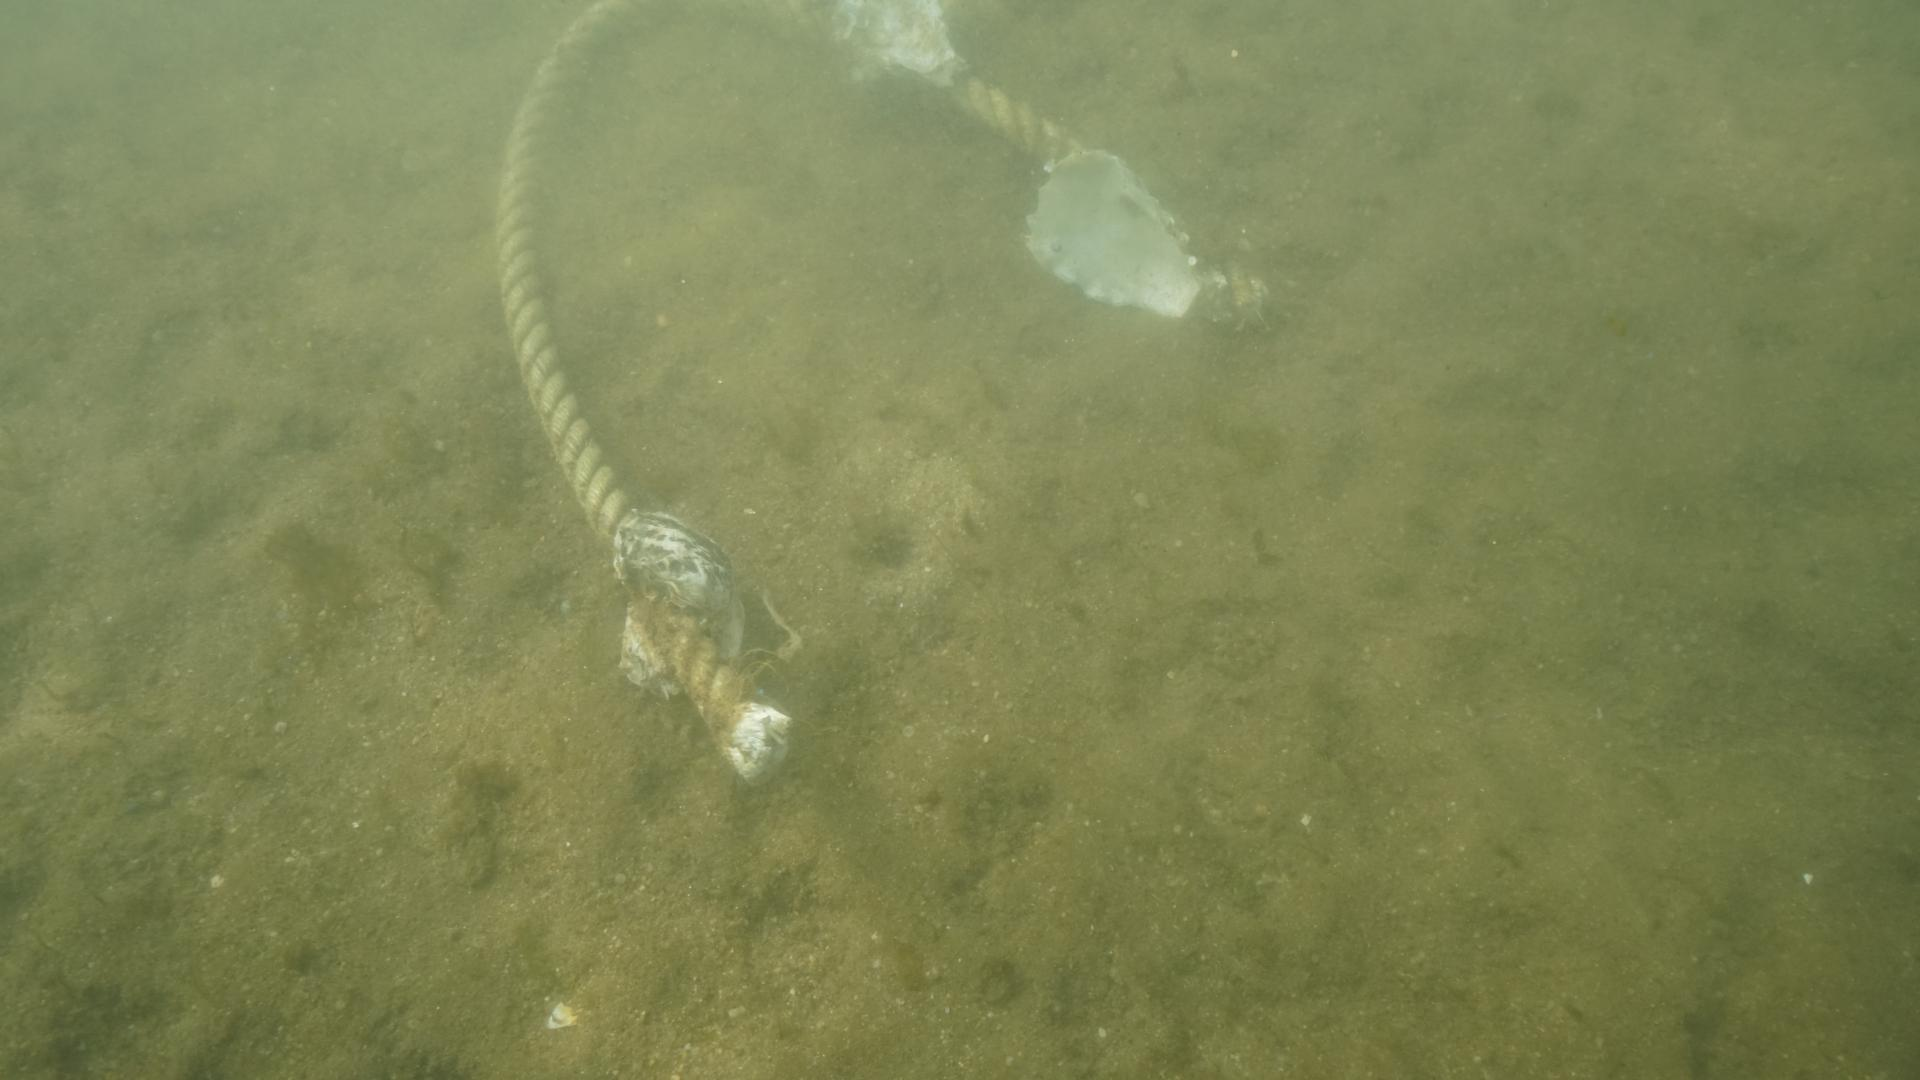rope: (484, 0, 1280, 774)
